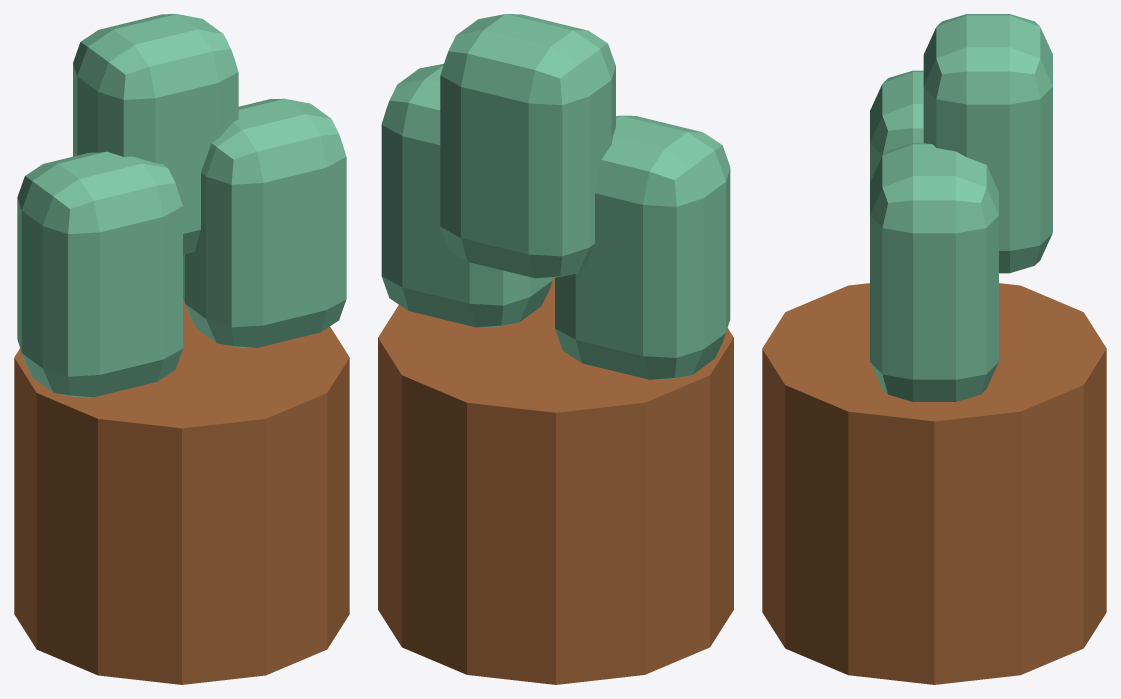
File: prop_tanamanPot.fbx
The picture shows the model from 3 angles, left to right: view 1: azimuth 30°, elevation 25°; view 2: azimuth 150°, elevation 25°; view 3: azimuth 270°, elevation 25°; orthographic projection. The views are drawn at different scales.
Visible parts, largest first — view 1: prop_tanamanPot; view 2: prop_tanamanPot; view 3: prop_tanamanPot.
Boxes of the visible parts, left/top/right/bottom form: prop_tanamanPot: left=14, top=14, right=349, bottom=684; prop_tanamanPot: left=378, top=14, right=733, bottom=684; prop_tanamanPot: left=762, top=14, right=1106, bottom=684.
Size of the model in its own units: 33 by 59.5 by 32.
Materials: 1 (1 with a texture image).
